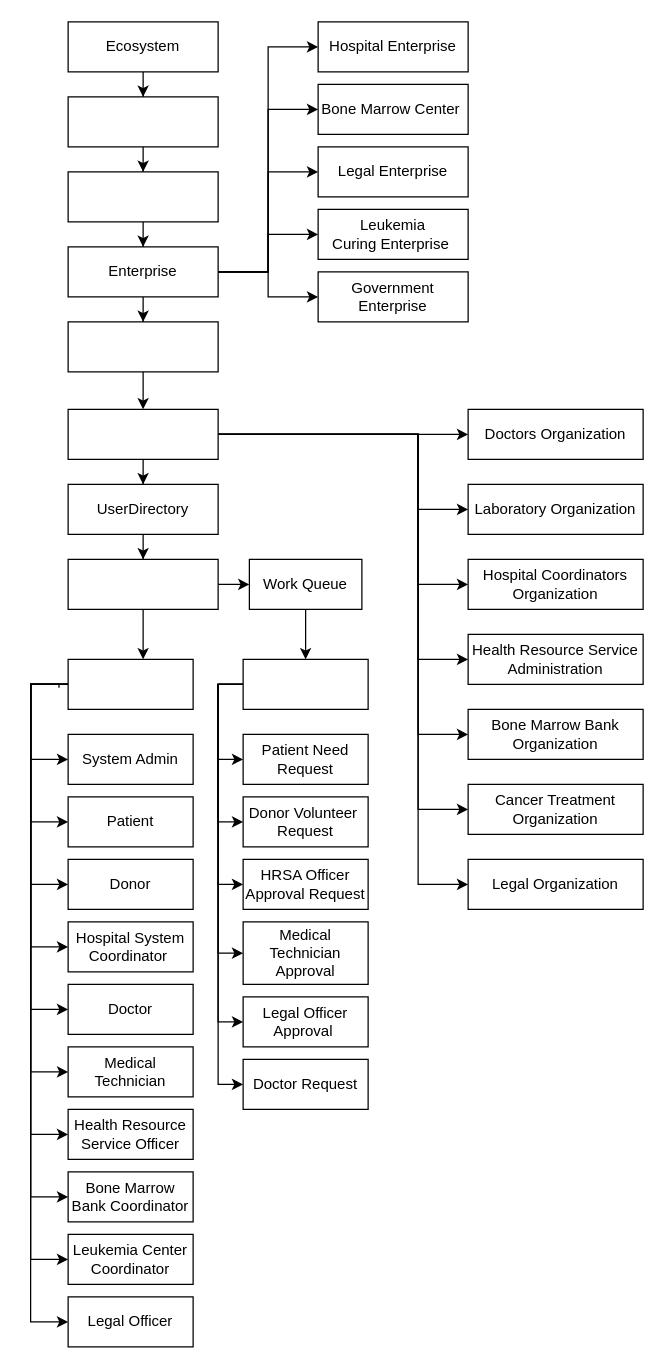
Image size: 665x1369. Some labels were removed from this diagram. Here are the shapes that lost their labels. From the top down, the centre of each, then its label:
At [142,121]: "Network".
At [142,196]: "EnterpriseDirectory".
At [142,346]: "OrganizationDirectory".
At [142,433]: "Organization".
At [142,583]: "User Account".
At [130,683]: "Roles".
At [305,683]: "Work Request".
